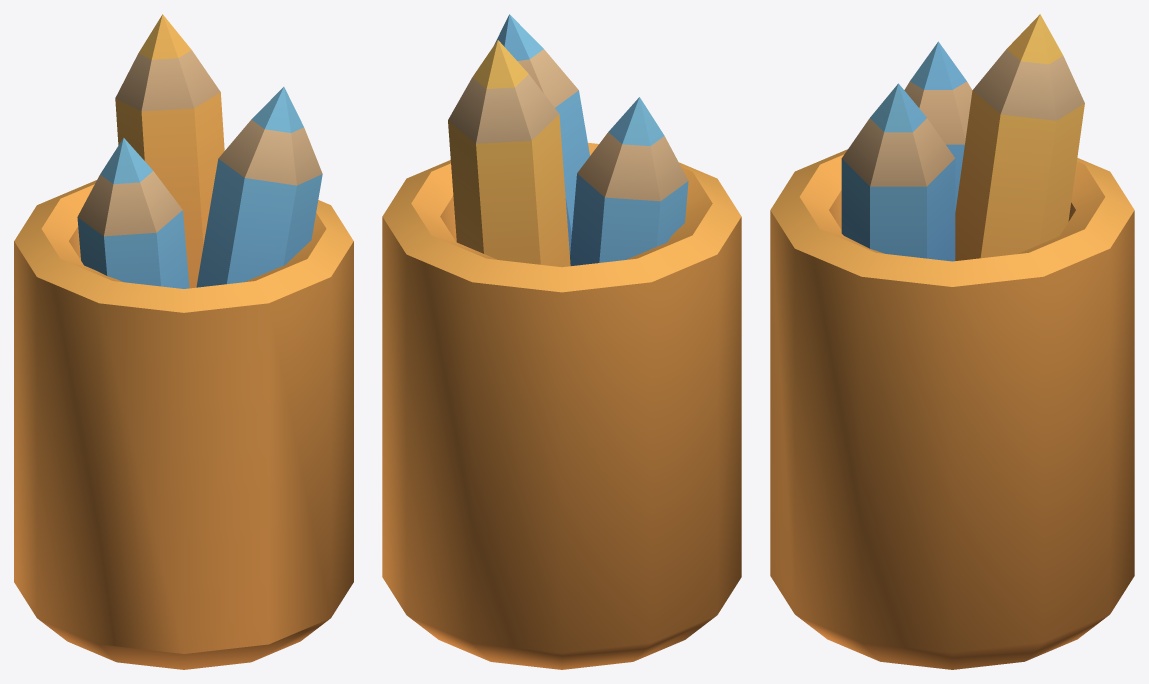
The model's file is cup_pencils.glb.
3 renders of one model, left to right at view 1: azimuth 30°, elevation 25°; view 2: azimuth 150°, elevation 25°; view 3: azimuth 270°, elevation 25°, orthographic. The views are drawn at different scales.
Visible parts, largest first — view 1: cup_pencils; view 2: cup_pencils; view 3: cup_pencils.
Boxes of the visible parts, box(x1,y1,x2,y2) form: cup_pencils: box(14, 14, 353, 669); cup_pencils: box(382, 14, 741, 669); cup_pencils: box(770, 14, 1134, 669).
Bounding box in the file's own units: 0.3675 × 0.6737 × 0.3675.
1 material, 1 textured.
